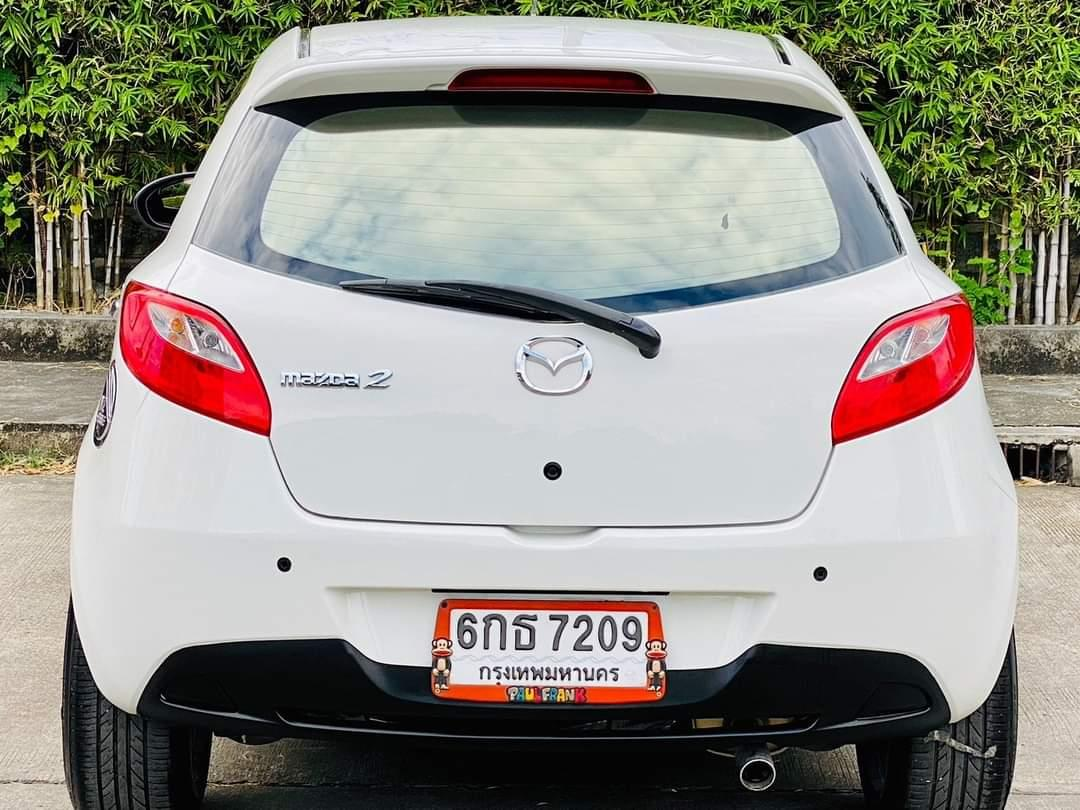license-plate: (430, 585, 668, 711)
